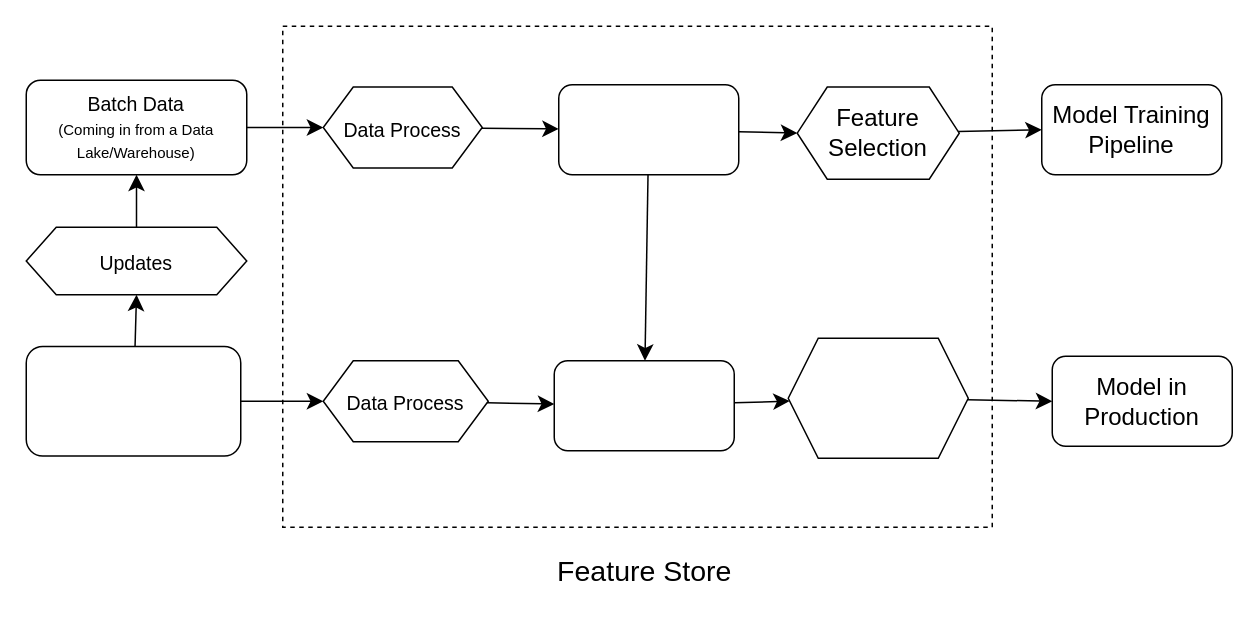
The diagram is 1259 pixels wide and 621 high, and some of its shapes have lost their labels. Here are the shapes that lost their labels. From the top down, the centre of each, then its label:
[648,129]: Offline Store
[133,400]: Real-time Data (Streaming Data & Log events)
[643,405]: Online Store
[877,397]: Constant Stream
